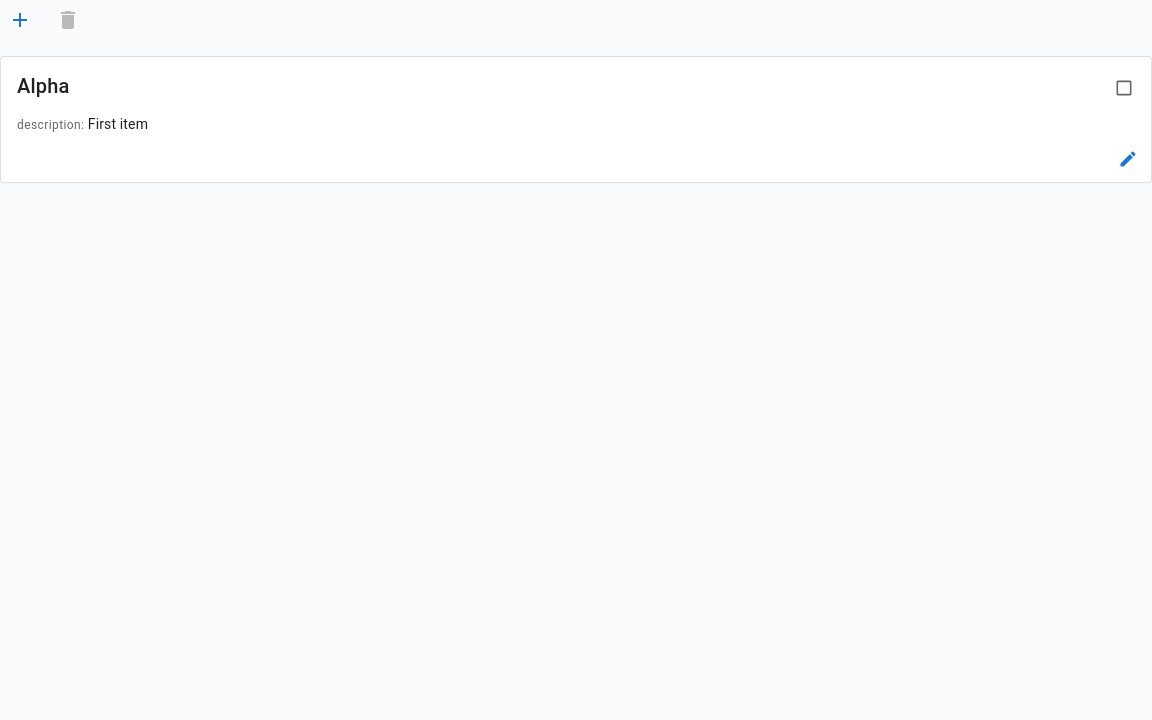
Test: CardListClient › Read (display) › uses entityLabel in the delete confirmation dialog title
The image size is (1152, 720).
Click the checkbox named "Select Alpha". click: click(1124, 88)
box: left=1114, top=78, right=1134, bottom=98
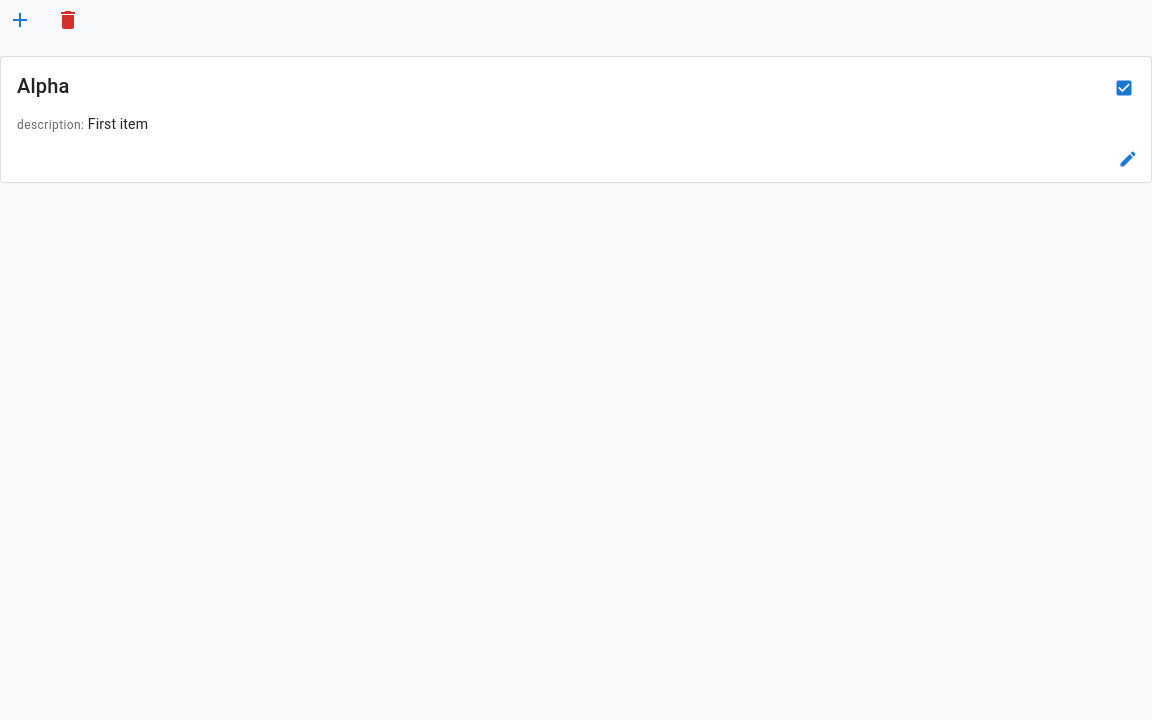
Click the button named "Delete Selected". click: click(68, 20)
box: left=48, top=0, right=88, bottom=40
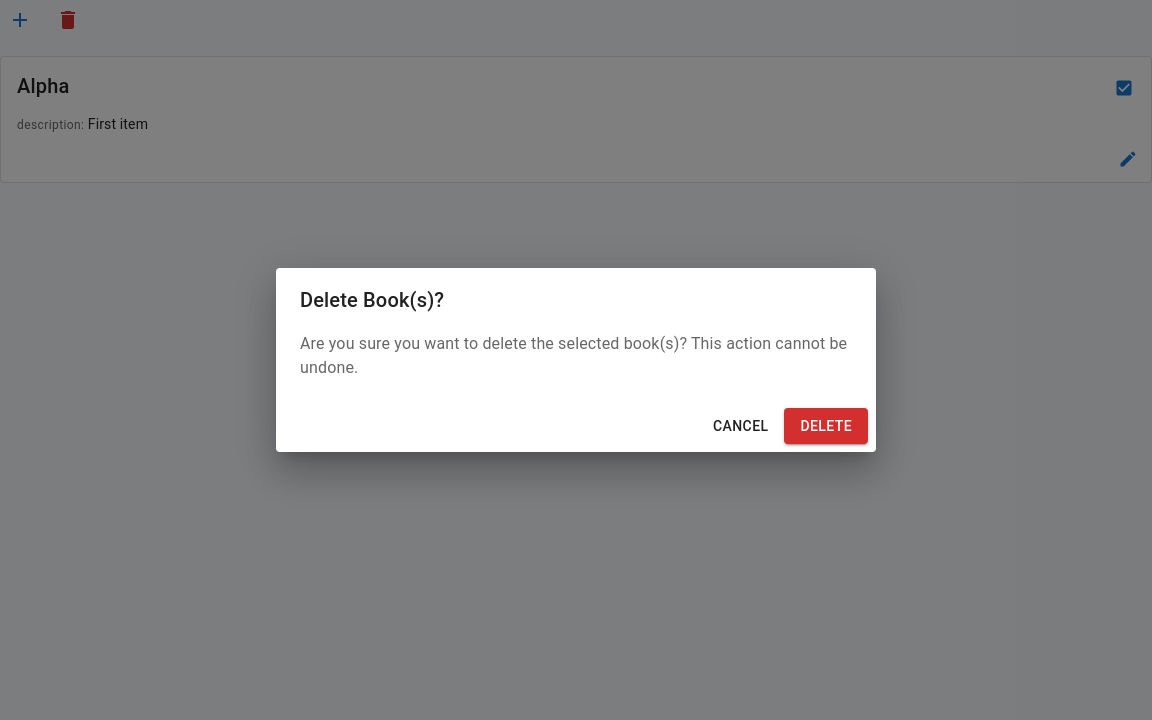
Check: the heading "Delete Book(s)?" is shown, box left=300, top=288, right=444, bottom=312
